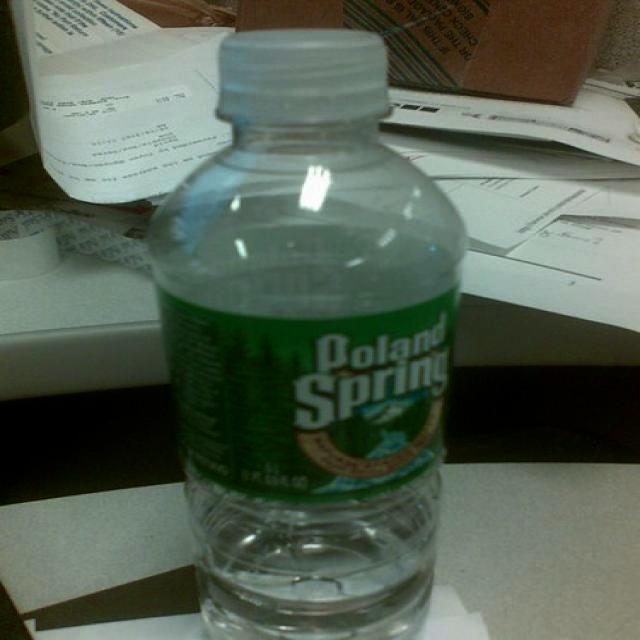bottle: (147, 30, 471, 639)
